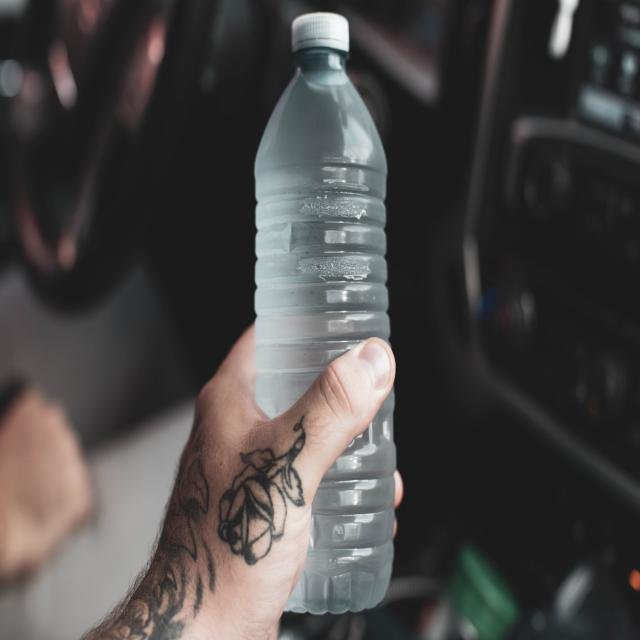bottle: (253, 11, 395, 616)
